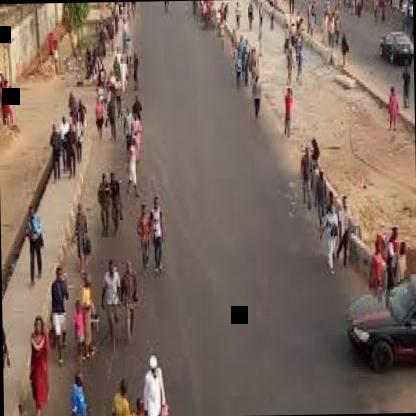car: (342, 277, 416, 386)
